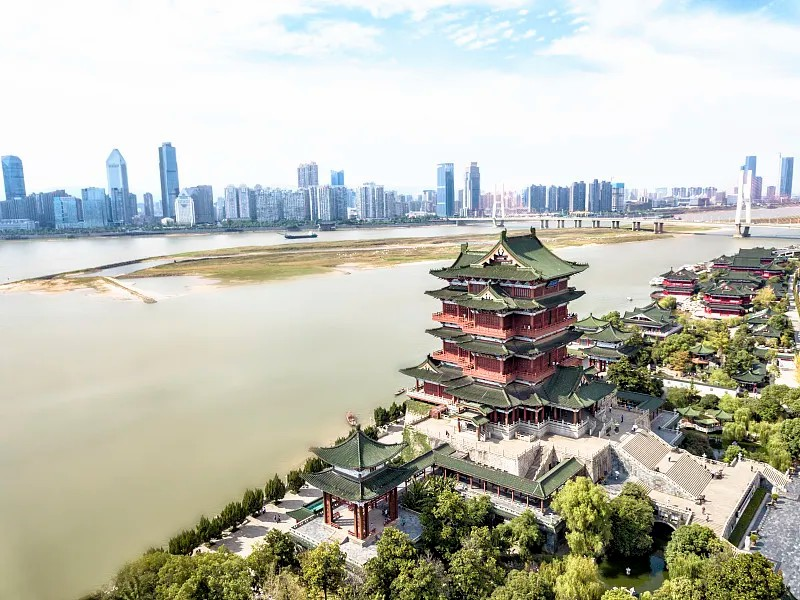Teng: (398, 228, 617, 434)
